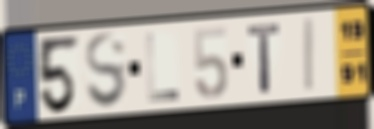5: (36, 33, 82, 116), (191, 23, 229, 101)
I: (303, 16, 316, 95)
L: (144, 31, 182, 105)
S: (83, 30, 129, 112)
T: (246, 21, 284, 95)
